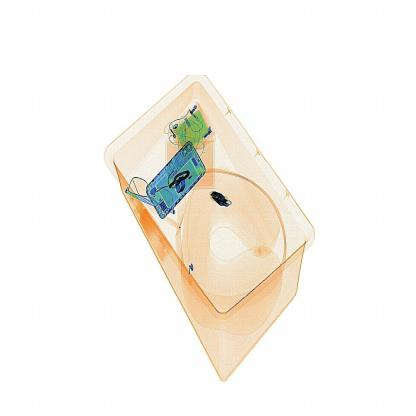scissors: (210, 190, 236, 214)
